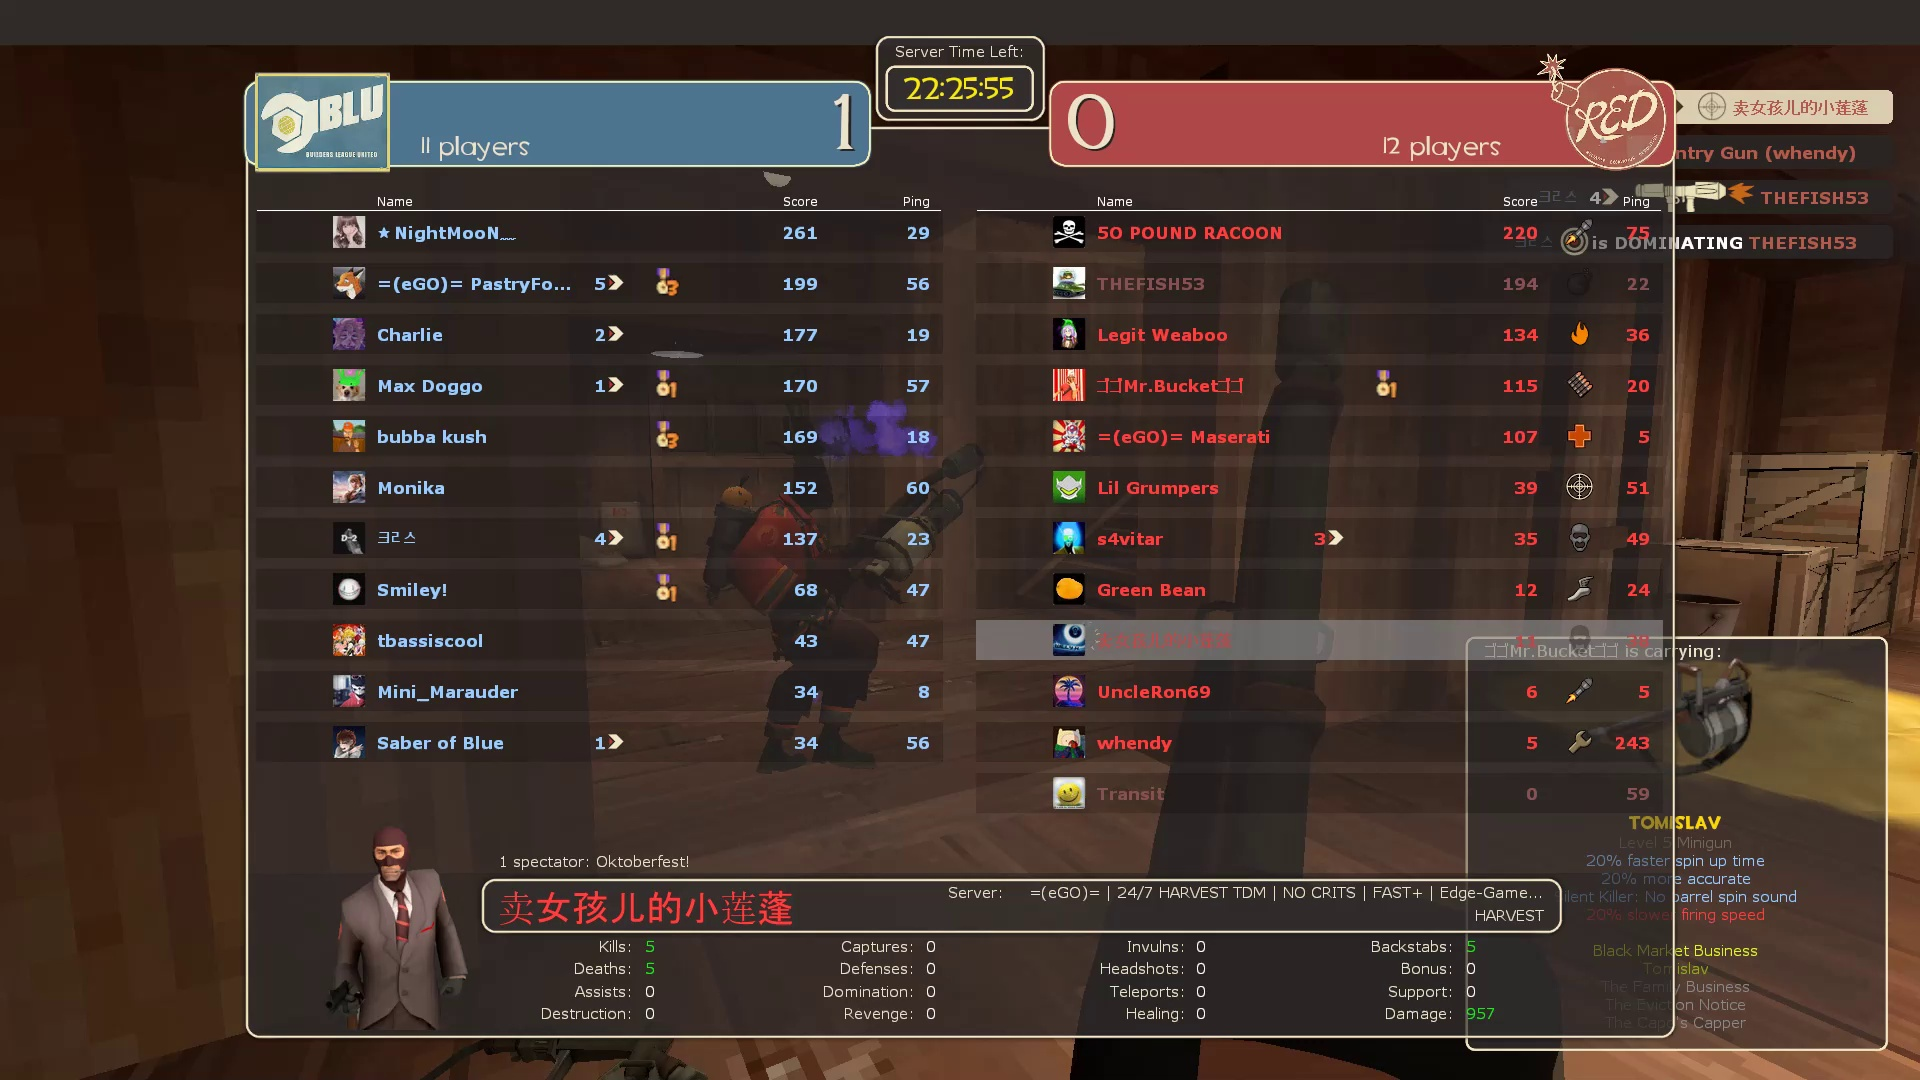red_pyro: (702, 426, 985, 796)
